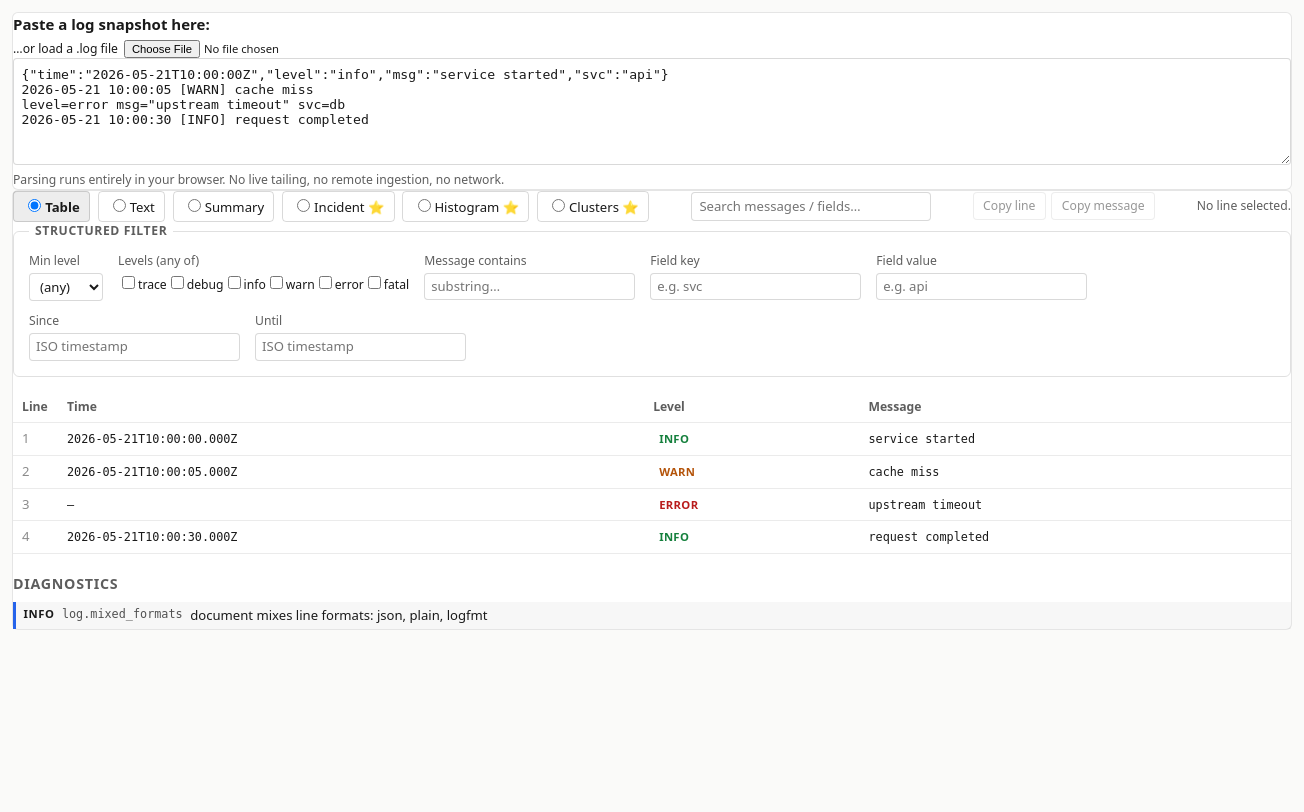
LogsApp integration › a levelIn filter narrows entries to the selected level through the engine
This screenshot has width=1304, height=812.
Click the checkbox with test id "log-filter-levelin-error": {"x": 325, "y": 282} [319,276,332,289]
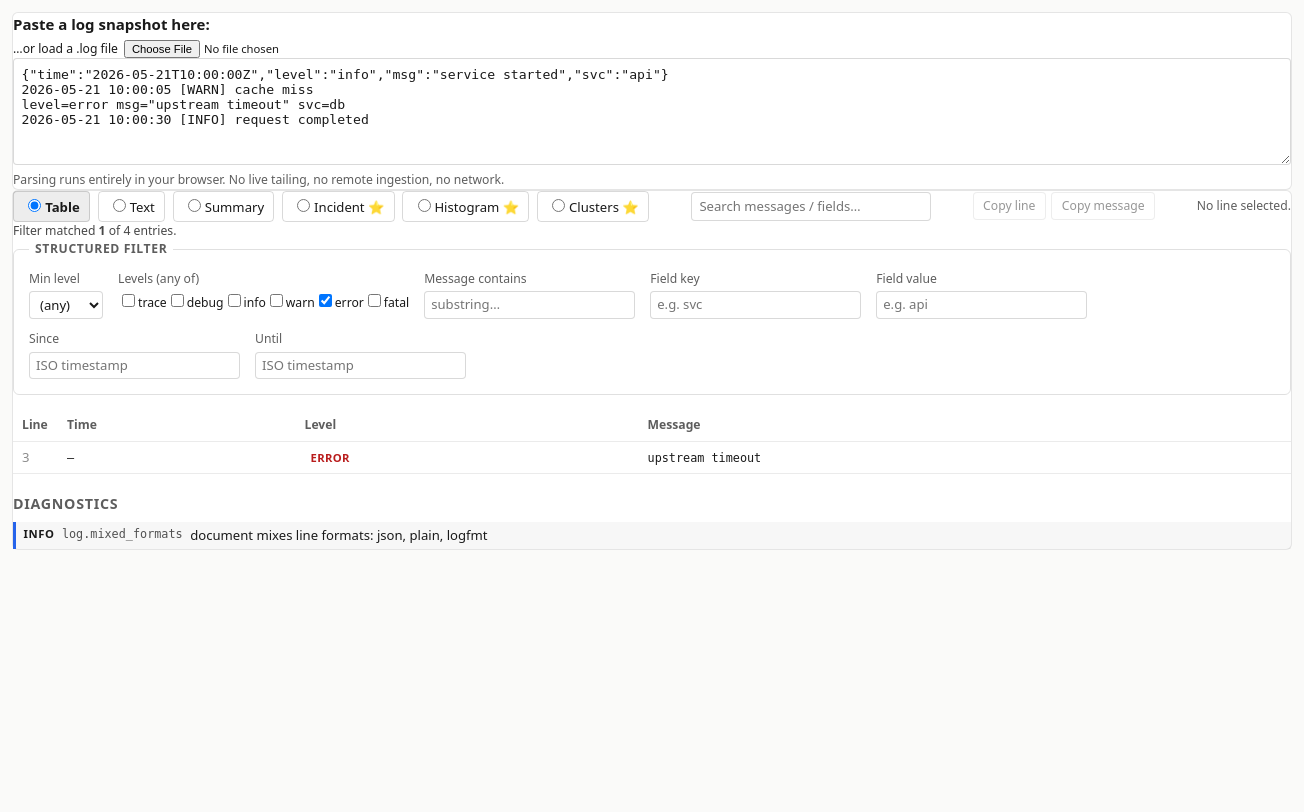
Expected: the row with test id "log-row" shows "upstream timeout", [648,451,761,465]
Expected: the element with test id "logs-matched-count" reads "Filter matched 1 of 4 entries.", [13,222,176,239]
